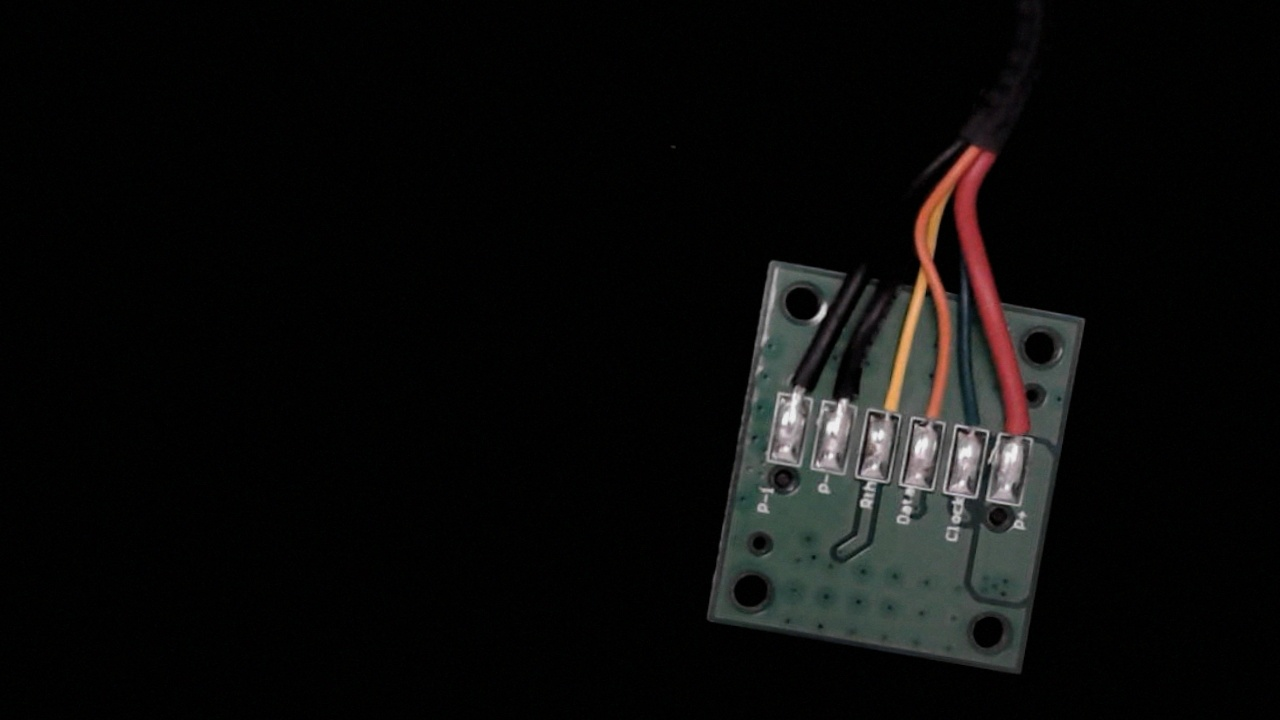Black: (819, 342, 871, 428)
Black1: (771, 343, 821, 422)
Green: (949, 378, 998, 452)
Orange: (907, 372, 958, 446)
Red: (993, 383, 1045, 457)
Yellow: (861, 350, 914, 437)
